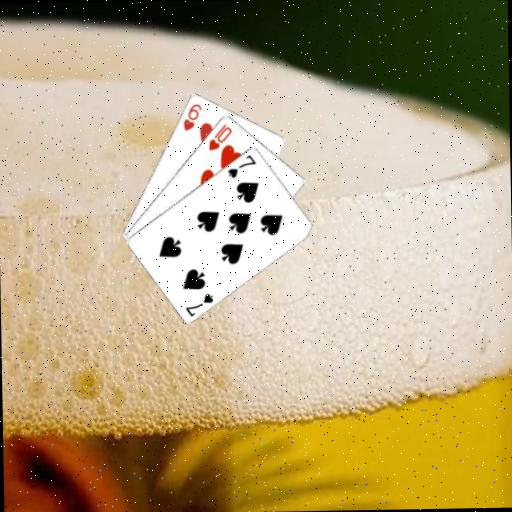10H: (206, 121, 234, 152)
6H: (180, 100, 204, 132)
7S: (225, 151, 258, 180), (182, 290, 215, 318)
